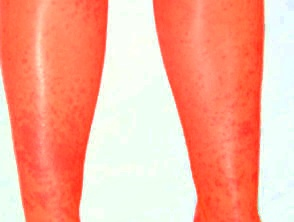SJS-TEN: (6, 88, 111, 222)
